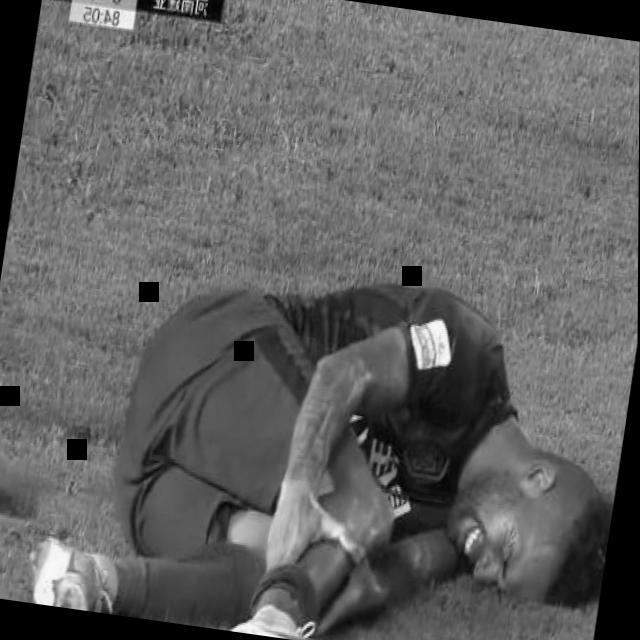Fall-Detected: (22, 202, 639, 640)
